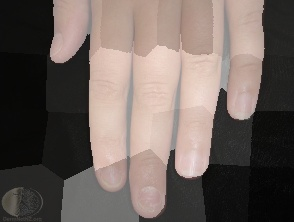Nail_psoriasis: (86, 147, 137, 199), (165, 135, 216, 186), (123, 173, 175, 222), (40, 23, 75, 66), (227, 81, 261, 124)
